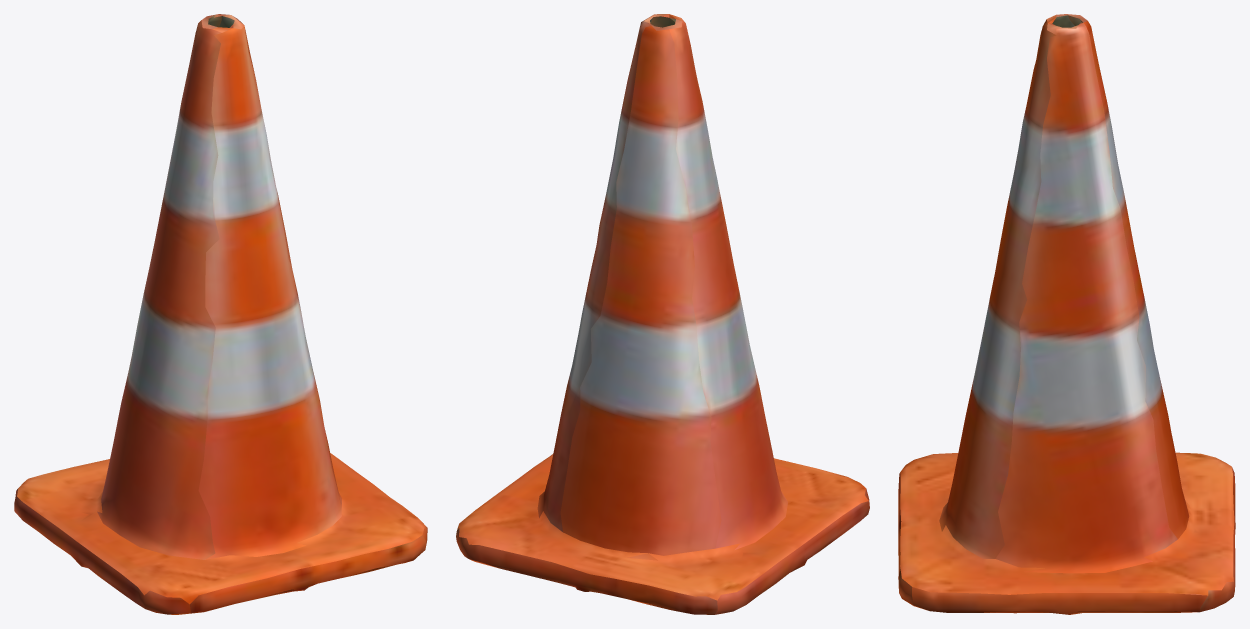
3 renders of one model, left to right at view 1: azimuth 30°, elevation 25°; view 2: azimuth 150°, elevation 25°; view 3: azimuth 270°, elevation 25°, orthographic. The views are drawn at different scales.
Visible parts, largest first — view 1: geometry_0; view 2: geometry_0; view 3: geometry_0.
Part boxes in pixels (x1,y1,x2,y2): geometry_0: [14, 14, 427, 614]; geometry_0: [456, 14, 869, 614]; geometry_0: [898, 14, 1235, 614].
Size of the model in its own units: 0.4369 by 0.75 by 0.4367.
1 material, 1 textured.
